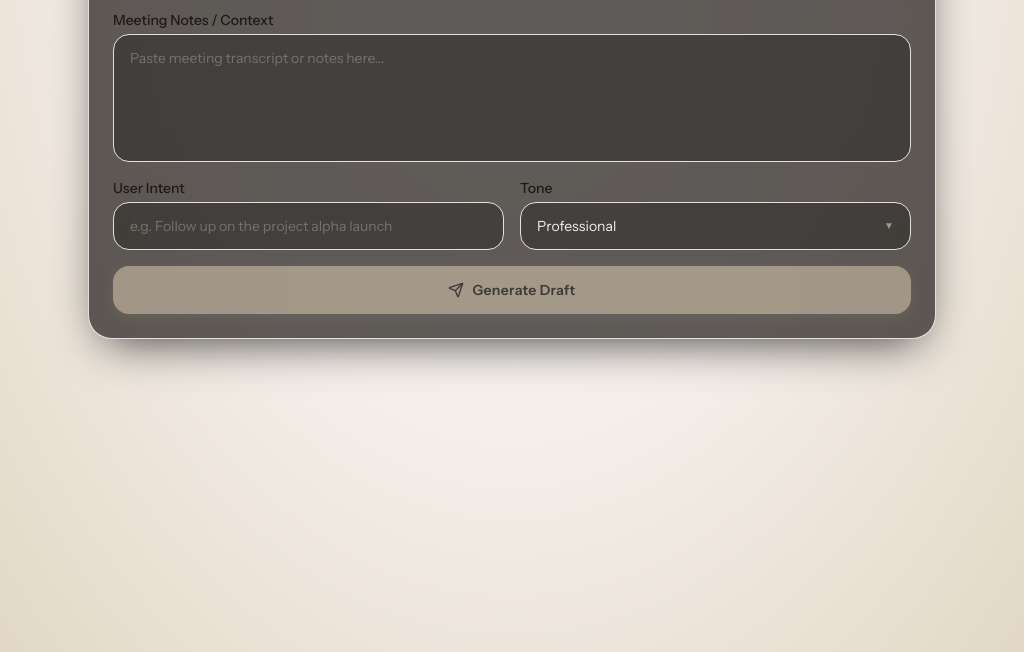
Test: EmailDraftEngine › displays the AI draft after successful generation
# Fill inputs
In the text box with placeholder "Paste meeting transcript or notes here...": {"x": 512, "y": 98} [113, 34, 911, 162], type "..."
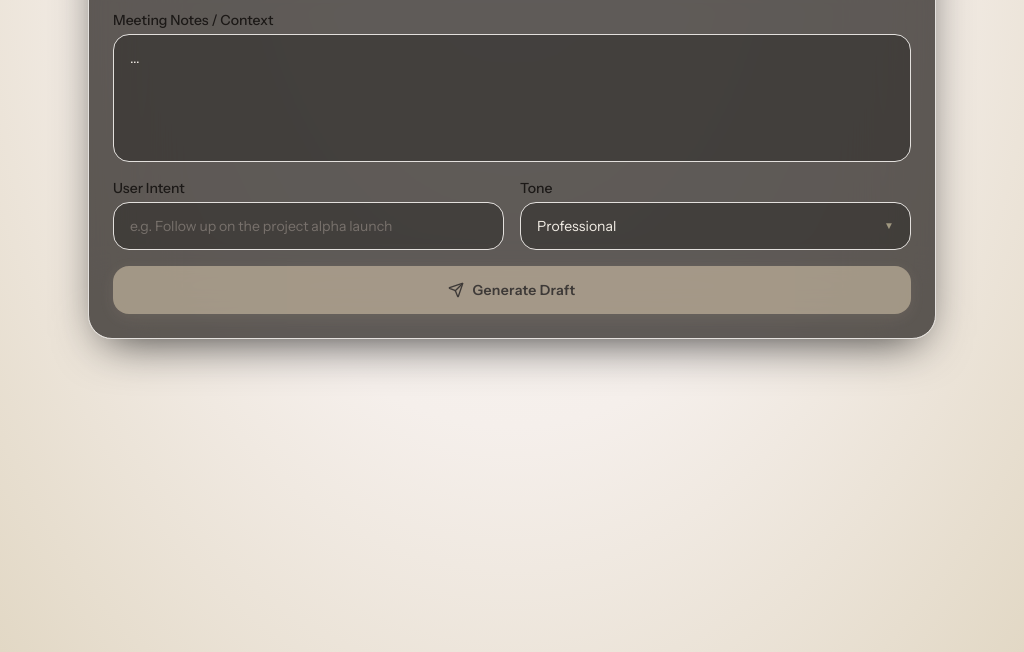
In the field with placeholder "e.g. Follow up on the project alpha launch": {"x": 308, "y": 226} [113, 202, 504, 250], type "..."
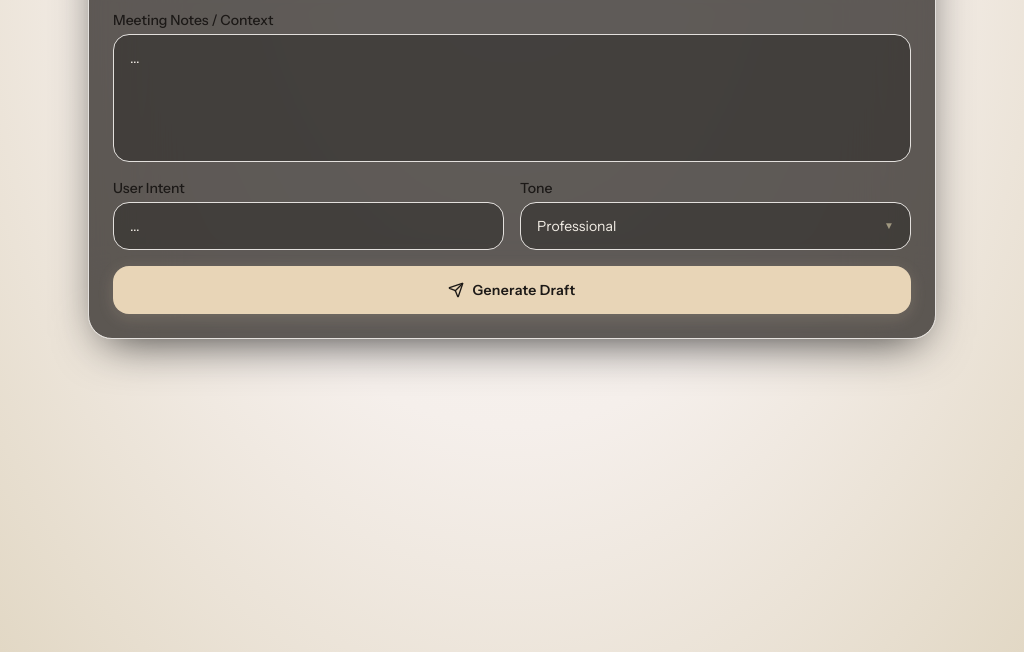
# Click generate
Click the button "Generate Draft": {"x": 512, "y": 290} [113, 266, 911, 314]
(page scrolled)
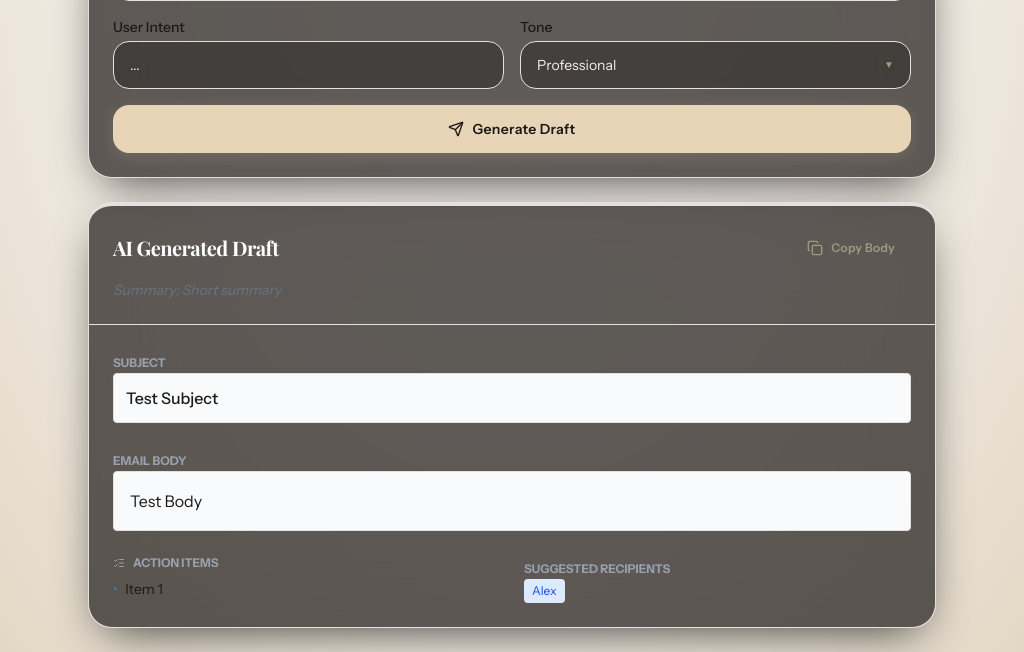
Expected: the text "Test Subject" is shown, [113, 373, 911, 423]
Expected: the text "Test Body" is shown, [113, 471, 911, 531]
Expected: the list item "Item 1" is shown, [125, 580, 163, 598]
